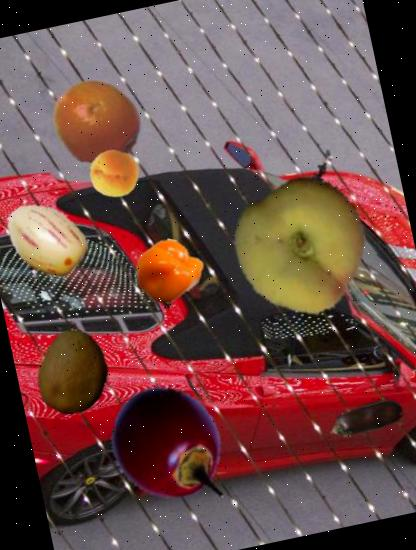Eggplant: (317, 371, 413, 467)
Papaya: (23, 321, 124, 423)
Peach: (220, 163, 384, 327), (85, 143, 145, 204)
Pepino: (0, 190, 96, 293)
Pepper: (128, 232, 210, 314)
Tamarillo: (98, 371, 246, 518)
Tangelo: (40, 67, 150, 178)
